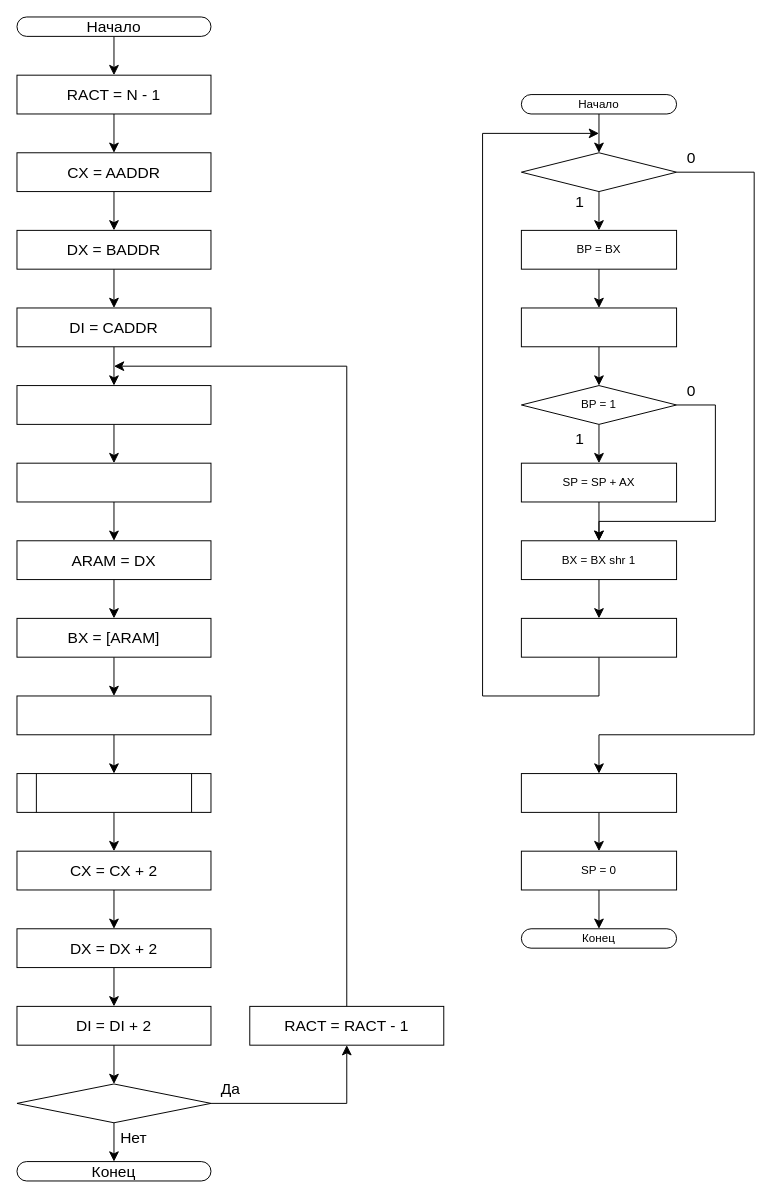
Image size: 781x1198. Some labels were removed from this diagram. Here are the shapes that lost their labels. From the top down, the centre of each, then its label:
At pixel 598 172: "BX <> 0".
At pixel 598 327: "BP = BP & 0001h".
At pixel 113 404: "ARAM = CX".
At pixel 113 482: "AX = [ARAM]".
At pixel 598 637: "DX = DX shl 1".
At pixel 113 715: "ARAM = DI".
At pixel 113 792: "SP = AX * BX".
At pixel 598 792: "SP -> [DI]".
At pixel 113 1103: "RACT <> 0".
